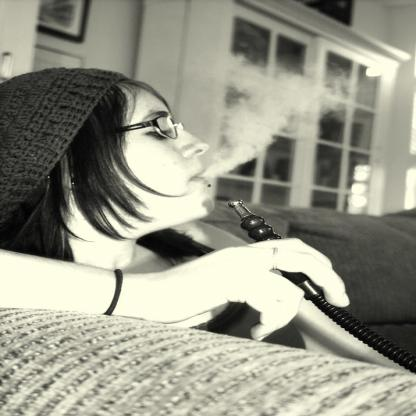smoking: (228, 198, 303, 272)
